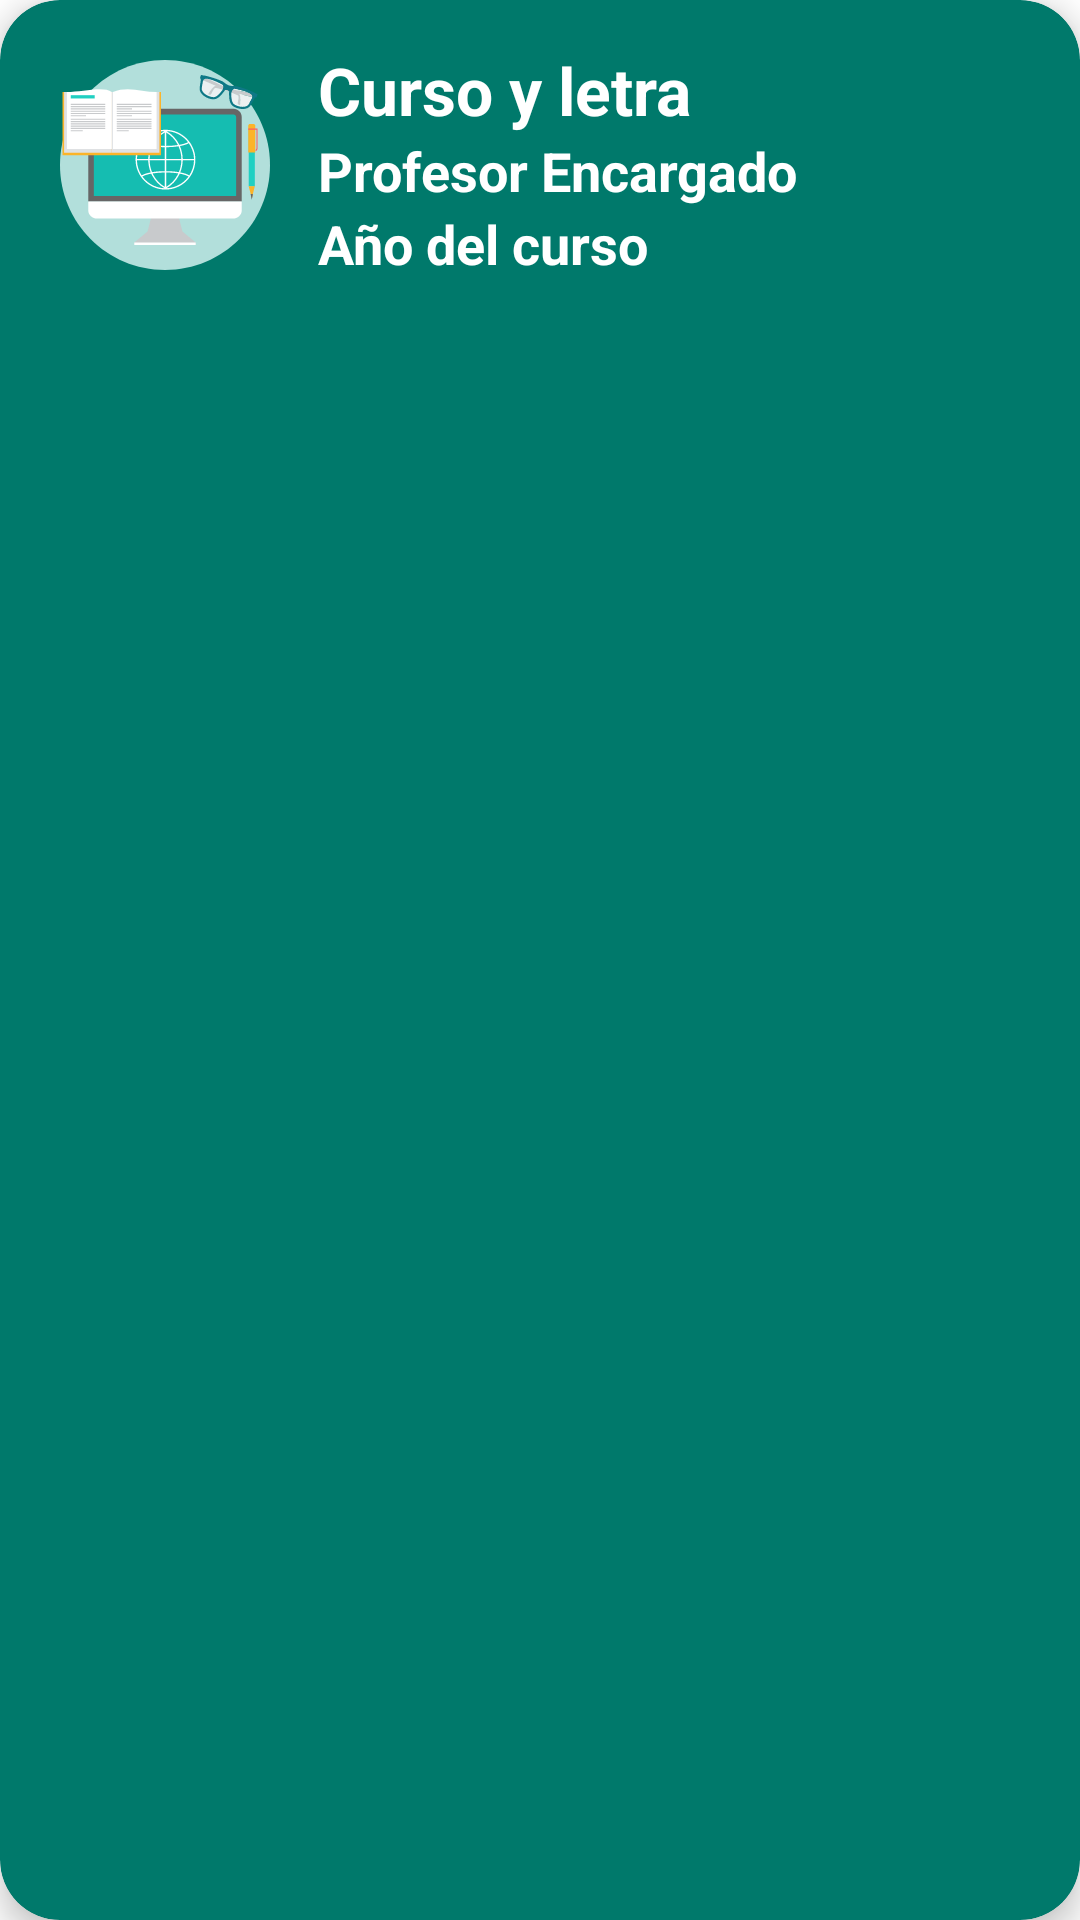

Icon click points for this 1080 × 1920 phone screenshot, format point (x, y):
cursos: point (165, 165)
